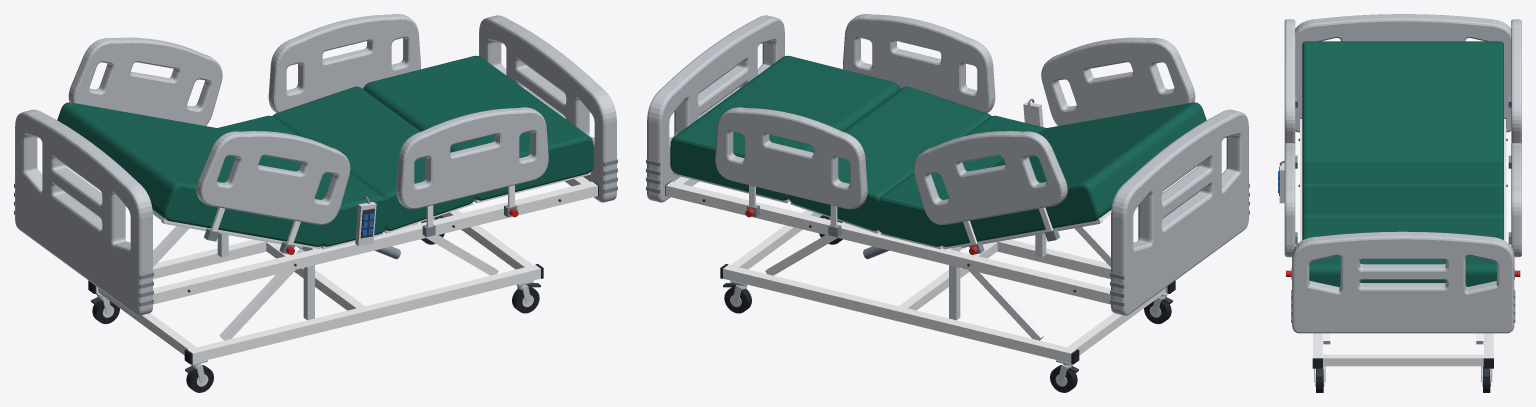
Rendered from cama-eletrica-yr.glb.
The picture shows the model from 3 angles, left to right: view 1: azimuth 30°, elevation 25°; view 2: azimuth 150°, elevation 25°; view 3: azimuth 270°, elevation 25°; orthographic projection. The views are drawn at different scales.
Parts seen in each view (by area): view 1: QuadroSuperior, ArticulacaoEncosto, BaseComRodizios, ArticulacaoPanturrilha, ArticulacaoCoxa, MecanismoElevacao; view 2: QuadroSuperior, ArticulacaoEncosto, BaseComRodizios, ArticulacaoPanturrilha, ArticulacaoCoxa, MecanismoElevacao; view 3: QuadroSuperior, ArticulacaoEncosto, ArticulacaoCoxa, ArticulacaoPanturrilha, BaseComRodizios.
Part boxes in pixels (x1,y1,x2,y2): QuadroSuperior: (14, 14, 617, 315); ArticulacaoEncosto: (57, 37, 350, 254); BaseComRodizios: (88, 210, 543, 392); ArticulacaoPanturrilha: (363, 55, 593, 203); ArticulacaoCoxa: (272, 86, 475, 233); MecanismoElevacao: (153, 223, 498, 340); QuadroSuperior: (646, 14, 1249, 315); ArticulacaoEncosto: (913, 37, 1206, 254); BaseComRodizios: (720, 210, 1175, 392); ArticulacaoPanturrilha: (670, 55, 900, 203); ArticulacaoCoxa: (788, 86, 991, 233); MecanismoElevacao: (765, 223, 1110, 340); QuadroSuperior: (1278, 14, 1521, 333); ArticulacaoEncosto: (1284, 19, 1521, 168); ArticulacaoCoxa: (1302, 186, 1503, 221); ArticulacaoPanturrilha: (1302, 219, 1503, 286); BaseComRodizios: (1312, 333, 1493, 392).
Size of the model in its own units: 2.12 by 1.12 by 1.05.
